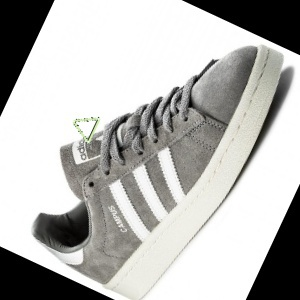triangle: (71, 114, 103, 144)
